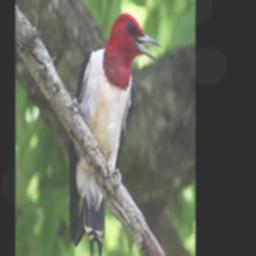Woodpecker: (65, 12, 164, 256)
